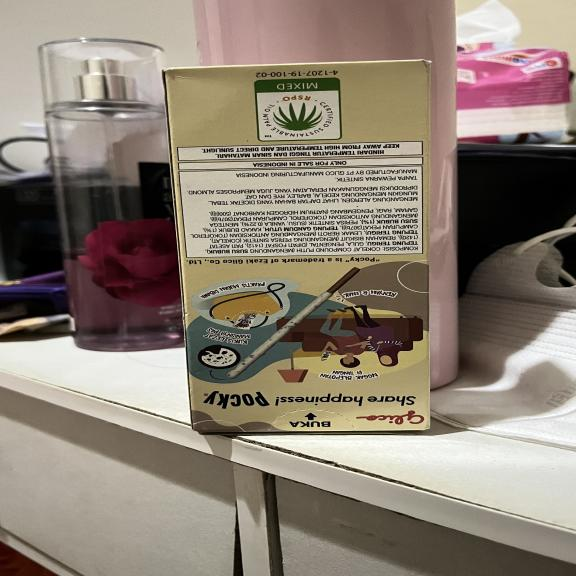Kertas: (163, 61, 432, 436)
